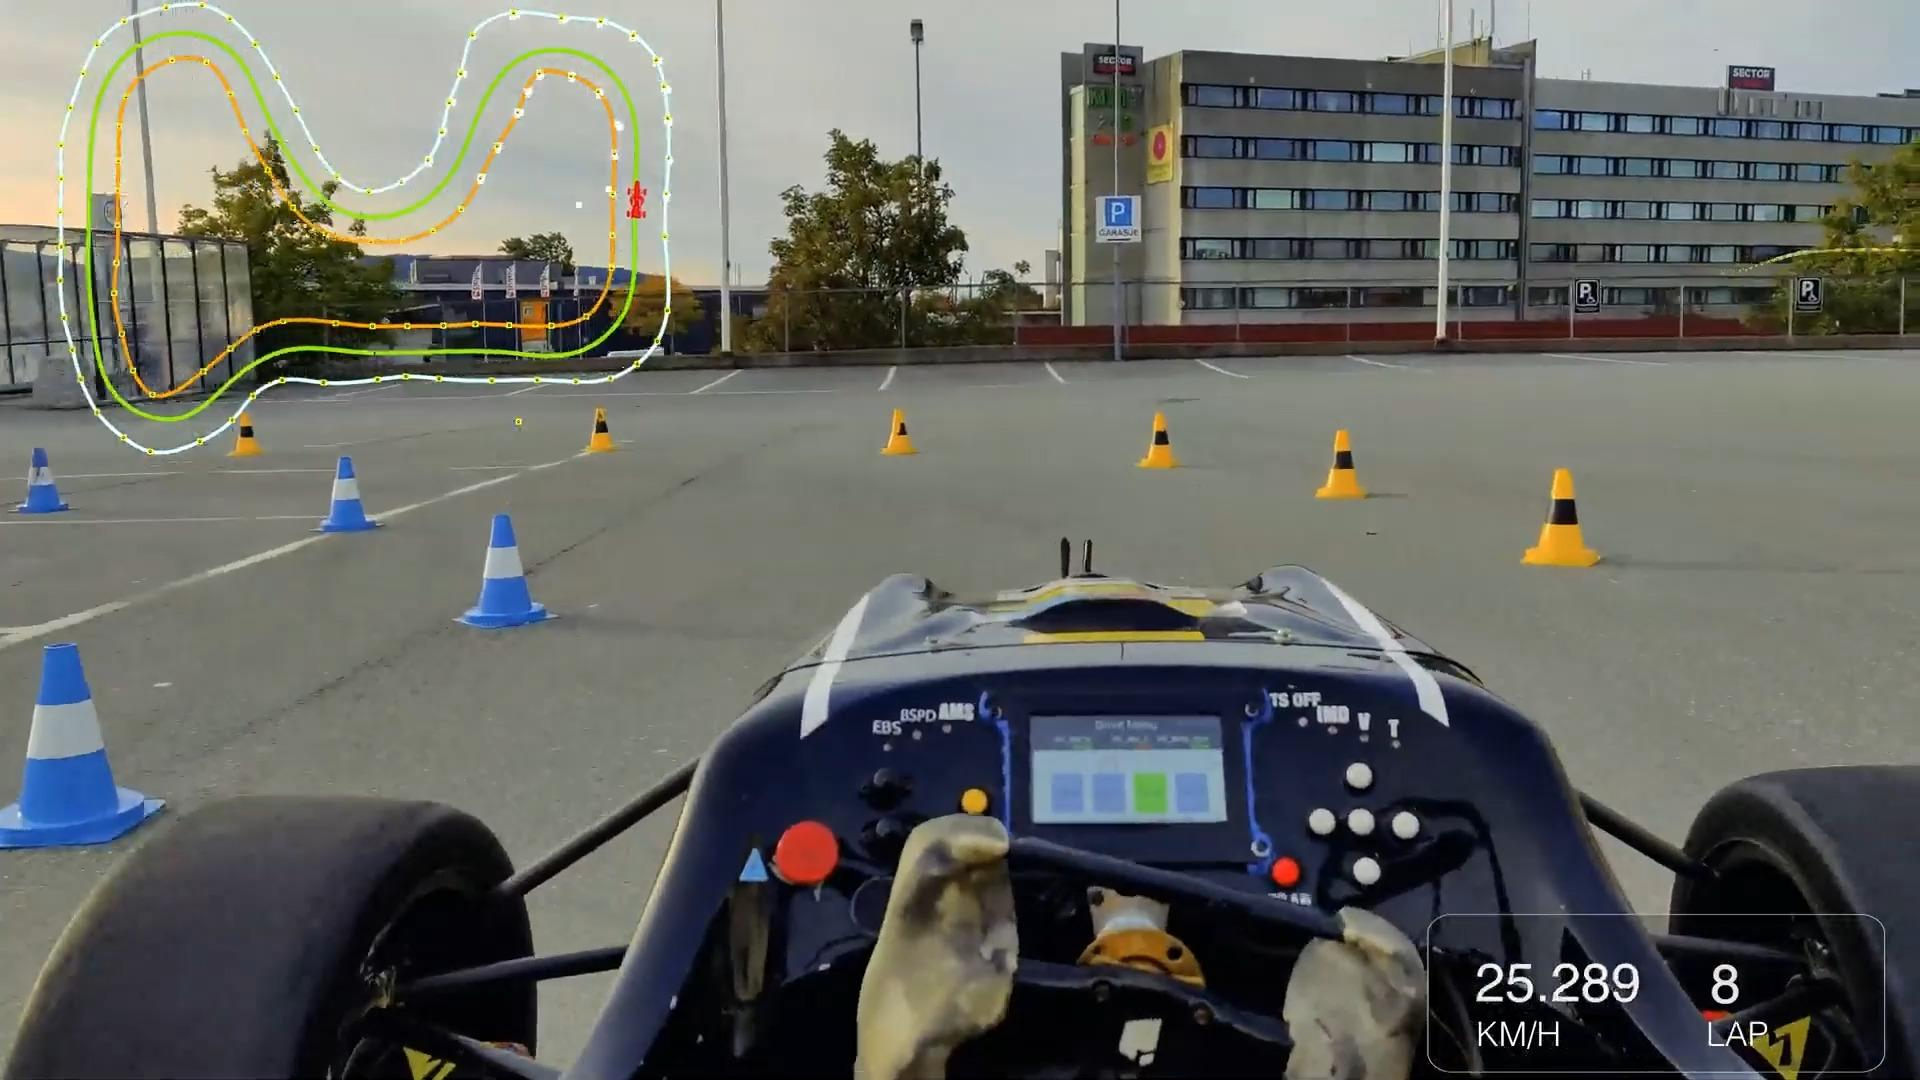blue_cone: (0, 640, 166, 847), (458, 512, 559, 630), (315, 456, 382, 533), (12, 447, 69, 513)
yellow_cone: (1522, 467, 1604, 567), (1319, 430, 1370, 498), (1139, 413, 1185, 468), (227, 410, 265, 459), (882, 409, 916, 456), (585, 406, 617, 452)
